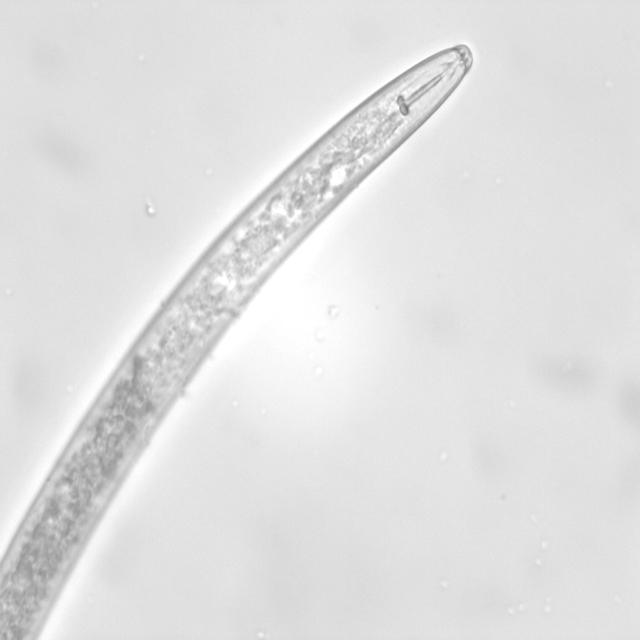Helicotylenchus: (113, 35, 478, 417)
